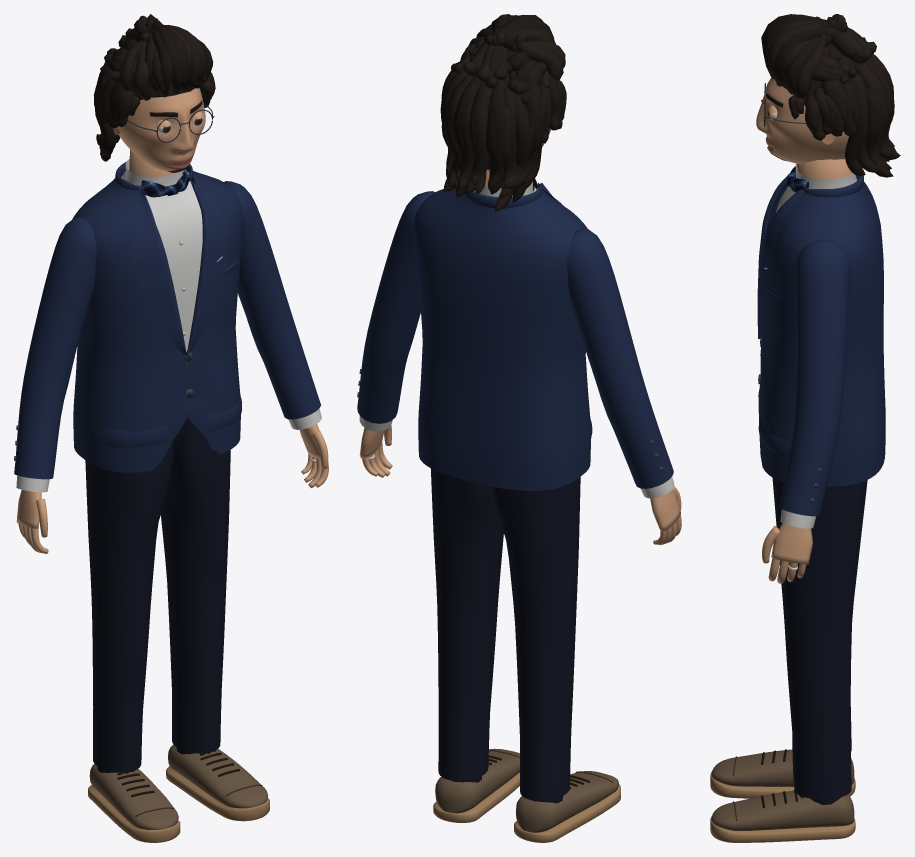
The model's file is marius-hero.glb.
3 renders of one model, left to right at view 1: azimuth 30°, elevation 25°; view 2: azimuth 150°, elevation 25°; view 3: azimuth 270°, elevation 25°, orthographic. The views are drawn at different scales.
Visible parts, largest first — view 1: Blazer, Trousers, Shoes, Hair, Shirt, Head, Body, BowTie; view 2: Blazer, Trousers, Hair, Shoes, Body, Shirt; view 3: Blazer, Trousers, Hair, Shoes, Head, Body, Shirt.
Boxes of the visible parts, x1,y1,x2,y2 form: Blazer: (14,161,320,479); Trousers: (85,418,230,772); Shoes: (88,744,269,842); Hair: (93,14,215,161); Shirt: (16,159,321,492); Head: (113,88,205,171); Body: (16,149,328,553); BowTie: (141,170,188,197); Blazer: (357,182,673,490); Trousers: (430,468,580,800); Hair: (440,14,566,211); Shoes: (433,748,620,842); Body: (359,172,681,544); Shirt: (359,181,674,498); Blazer: (757,175,885,516); Trousers: (772,477,867,799); Hair: (761,14,900,177); Shoes: (710,749,855,842); Head: (756,78,848,163); Body: (762,159,852,583); Shirt: (776,163,857,528).
Bounding box in the file's own units: 0.7161 × 1.75 × 0.3801.
7 materials, 1 textured.
